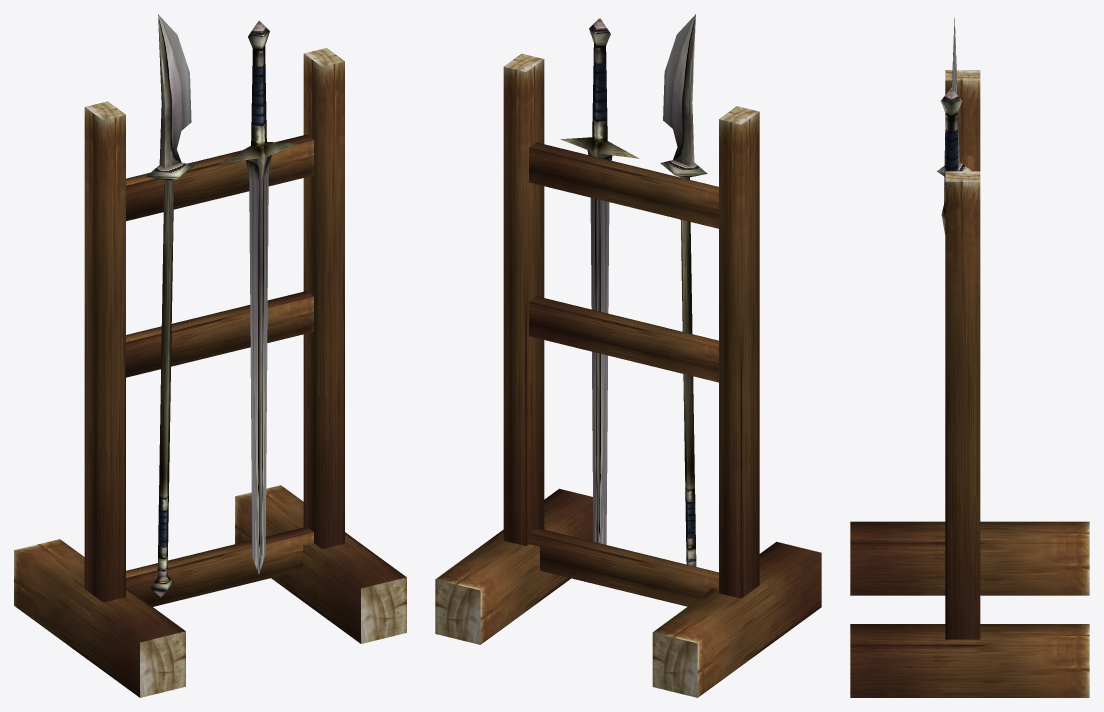
The model's file is generalweaponrack01.obj.
3 views of the same model, side by side, from view 1: azimuth 30°, elevation 25°; view 2: azimuth 150°, elevation 25°; view 3: azimuth 270°, elevation 25° (orthographic). The views are drawn at different scales.
Visible parts, largest first — view 1: Geoset0, Geoset1; view 2: Geoset0, Geoset1; view 3: Geoset0, Geoset1.
Boxes of the visible parts, <box> form: Geoset0: <box>14,48,406,697</box>; Geoset1: <box>146,14,299,597</box>; Geoset0: <box>435,53,821,697</box>; Geoset1: <box>560,14,707,566</box>; Geoset0: <box>850,70,1089,697</box>; Geoset1: <box>937,17,971,559</box>.
Size of the model in its own units: 1.29 by 2.91 by 1.06.
Materials: 2 (2 with a texture image).
